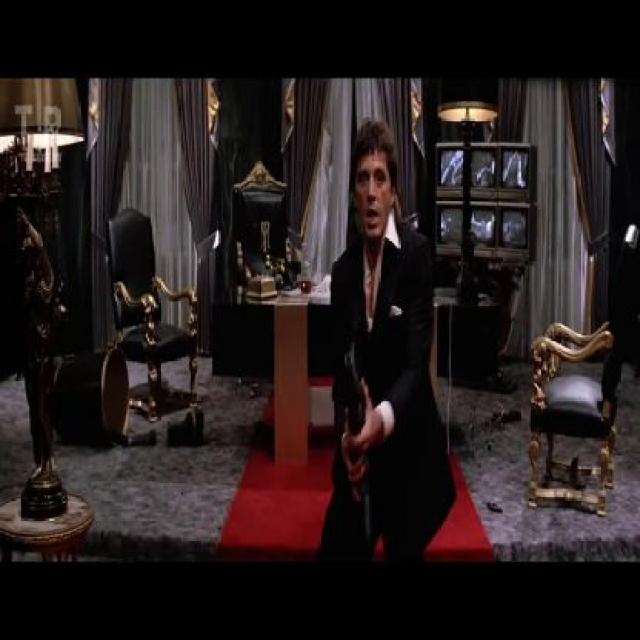Rifle: (342, 336, 373, 557)
